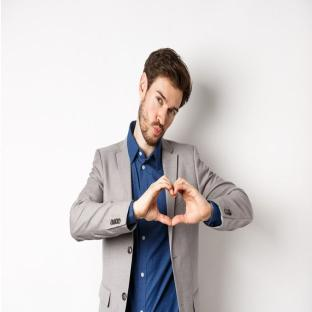Human: (70, 48, 253, 311)
